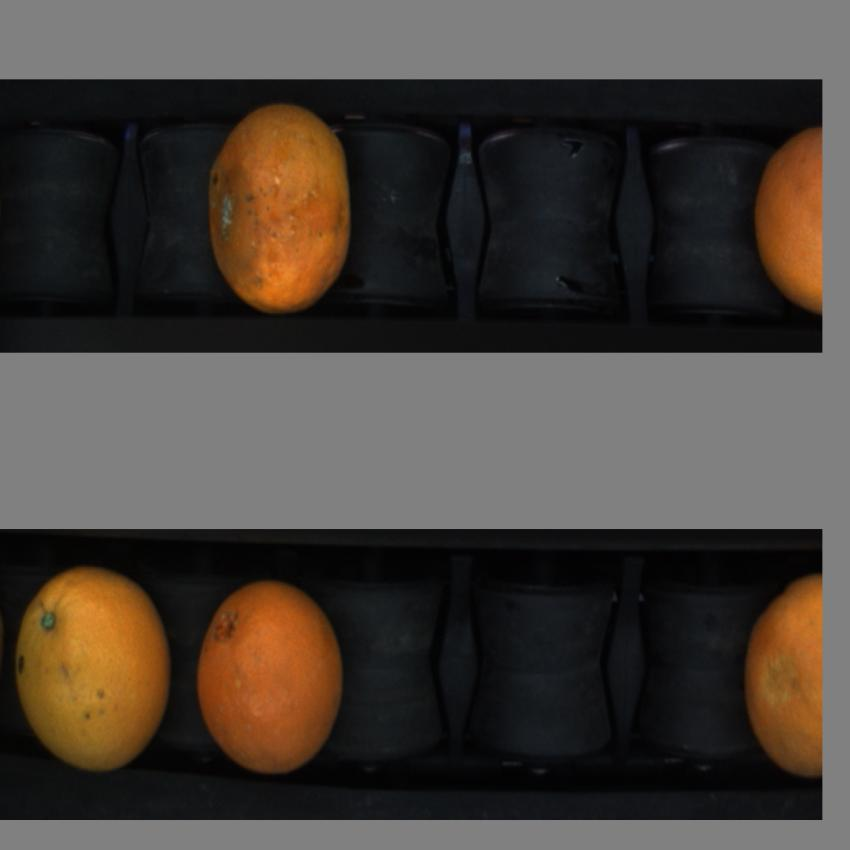Buen estado: (10, 563, 174, 776), (193, 584, 360, 775), (738, 563, 820, 791), (748, 118, 822, 327)
Mal estado: (196, 90, 360, 314)
